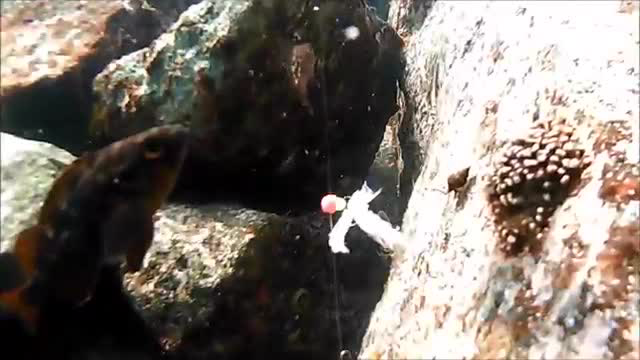mebaru: (7, 117, 201, 338), (277, 48, 319, 113)
